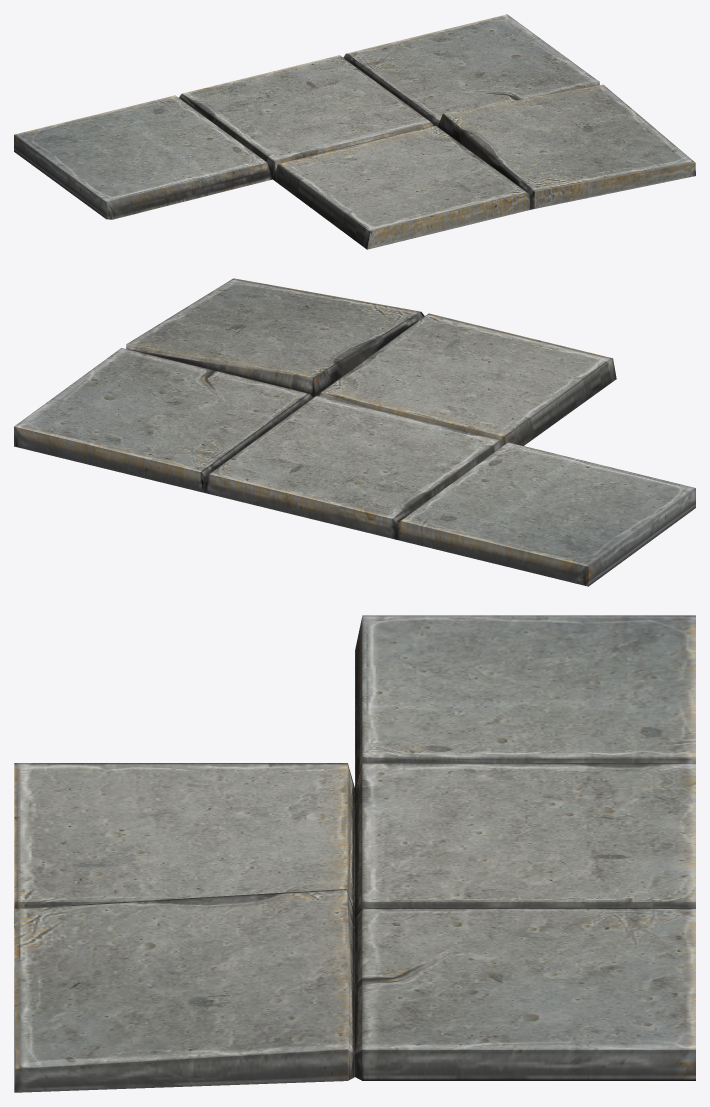
The model's file is pavementD.FBX.
The picture shows the model from 3 angles, top to bottom: view 1: azimuth 30°, elevation 25°; view 2: azimuth 150°, elevation 25°; view 3: azimuth 270°, elevation 25°; orthographic projection. The views are drawn at different scales.
Parts seen in each view (by area): view 1: pavementB001; view 2: pavementB001; view 3: pavementB001.
Part boxes in pixels (x1,y1,x2,y2): pavementB001: [14, 14, 695, 249]; pavementB001: [14, 278, 695, 586]; pavementB001: [14, 615, 695, 1092].
Bounding box in the file's own units: 90.58 × 5.99 × 60.03.
Materials: 1 (1 with a texture image).
